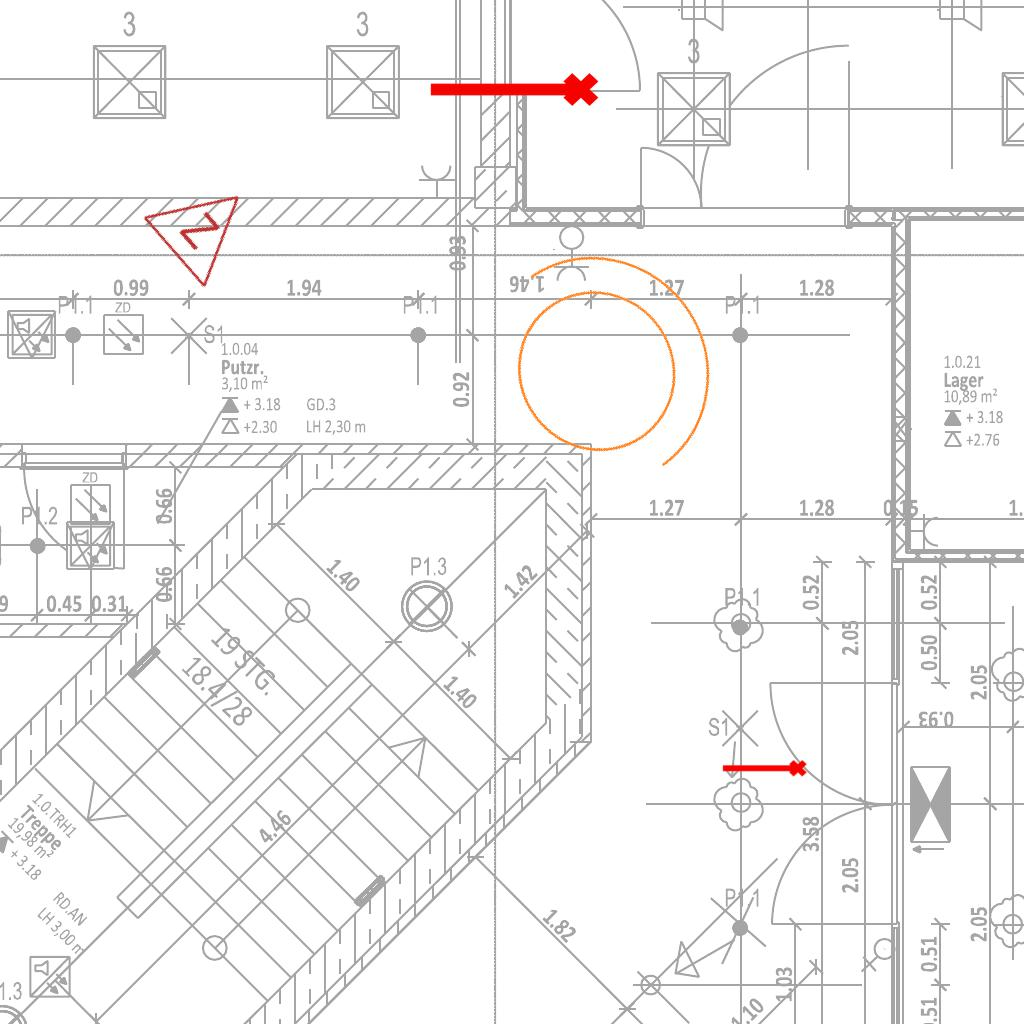ASR_Ansaugoeffnung: (425, 69, 601, 115), (720, 758, 808, 781)
Scheinwerfer_fuer_Alarmbeleuchtung: (433, 187, 769, 534)
Zimmersignalleuchte: (135, 154, 275, 294)
